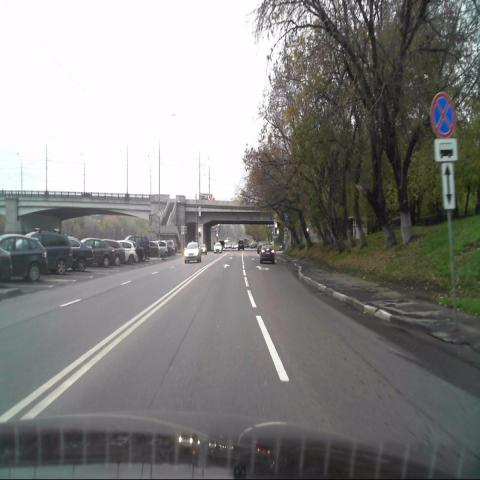8_2_4: (442, 162, 456, 210)
8_4_4: (434, 140, 458, 162)
